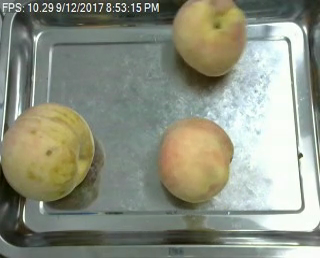Peach: (0, 101, 96, 202), (156, 115, 234, 201), (171, 2, 248, 77)
